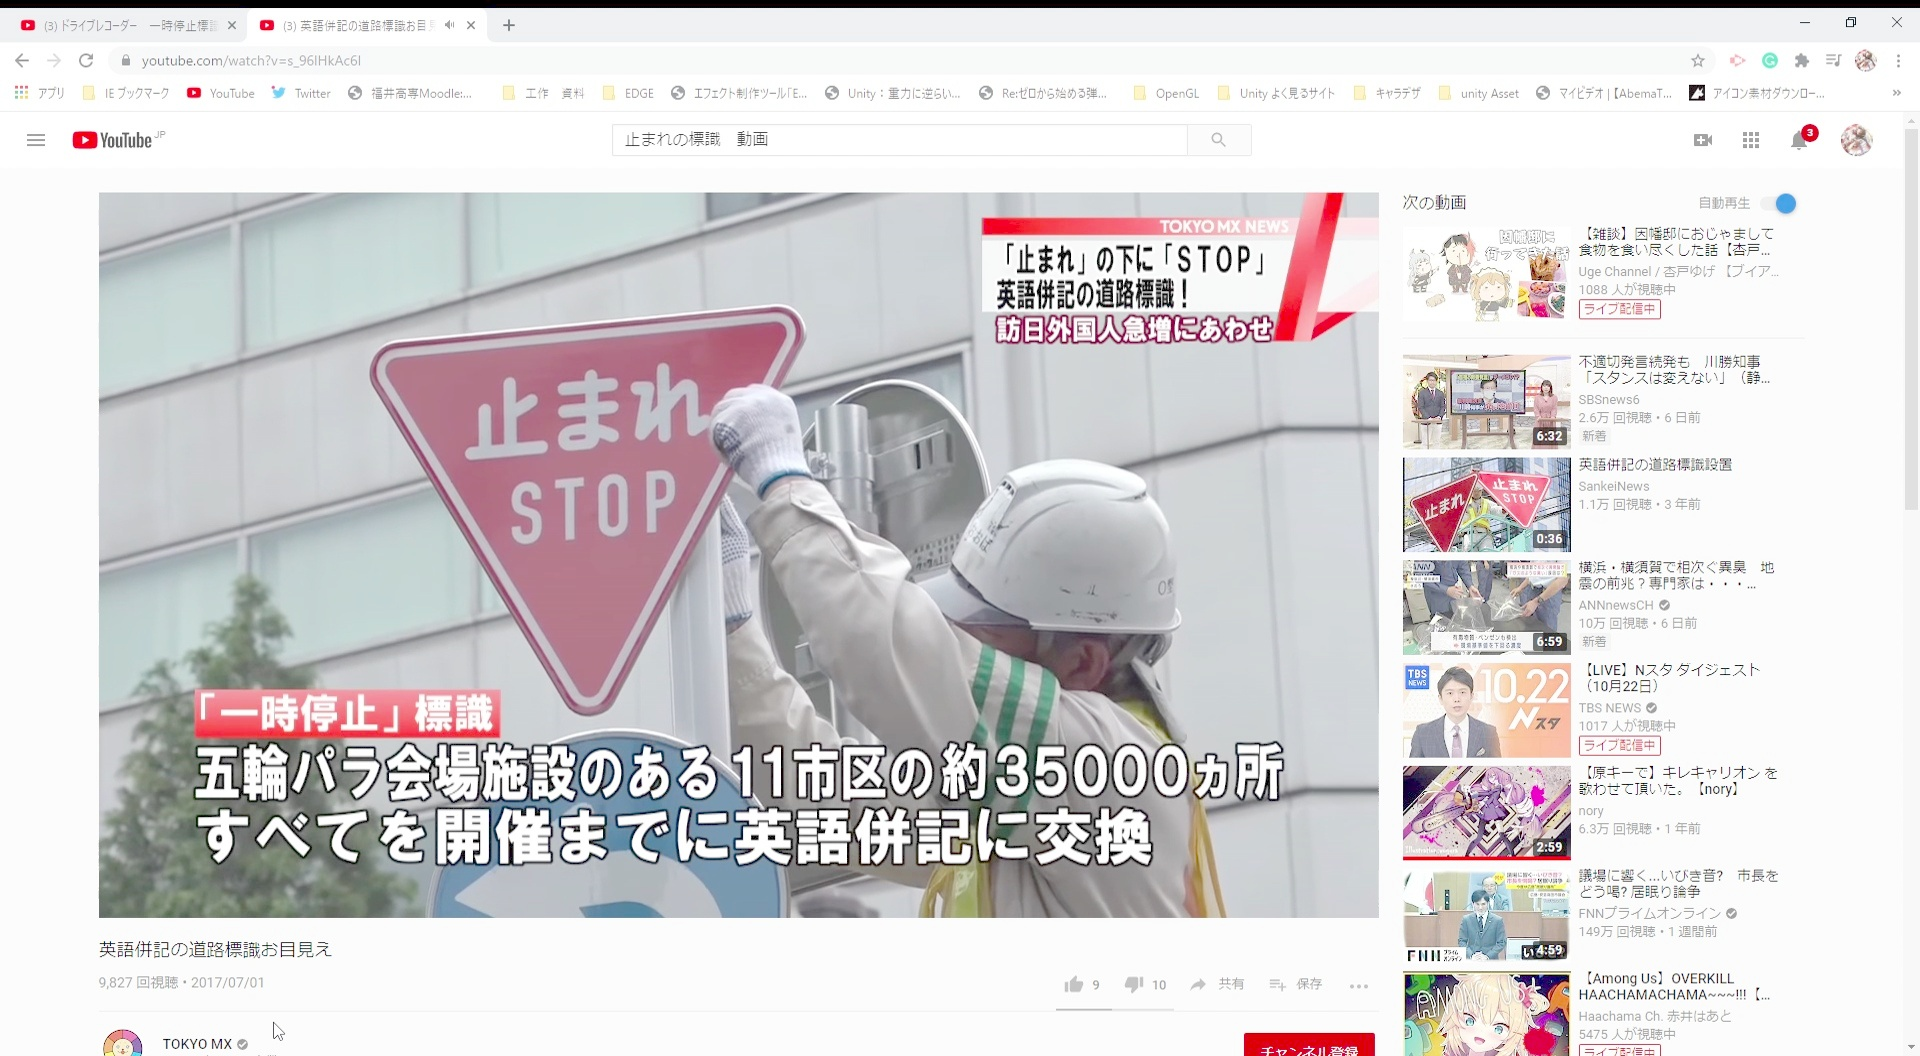Regulatory_sign_triangle: (329, 290, 827, 737)
